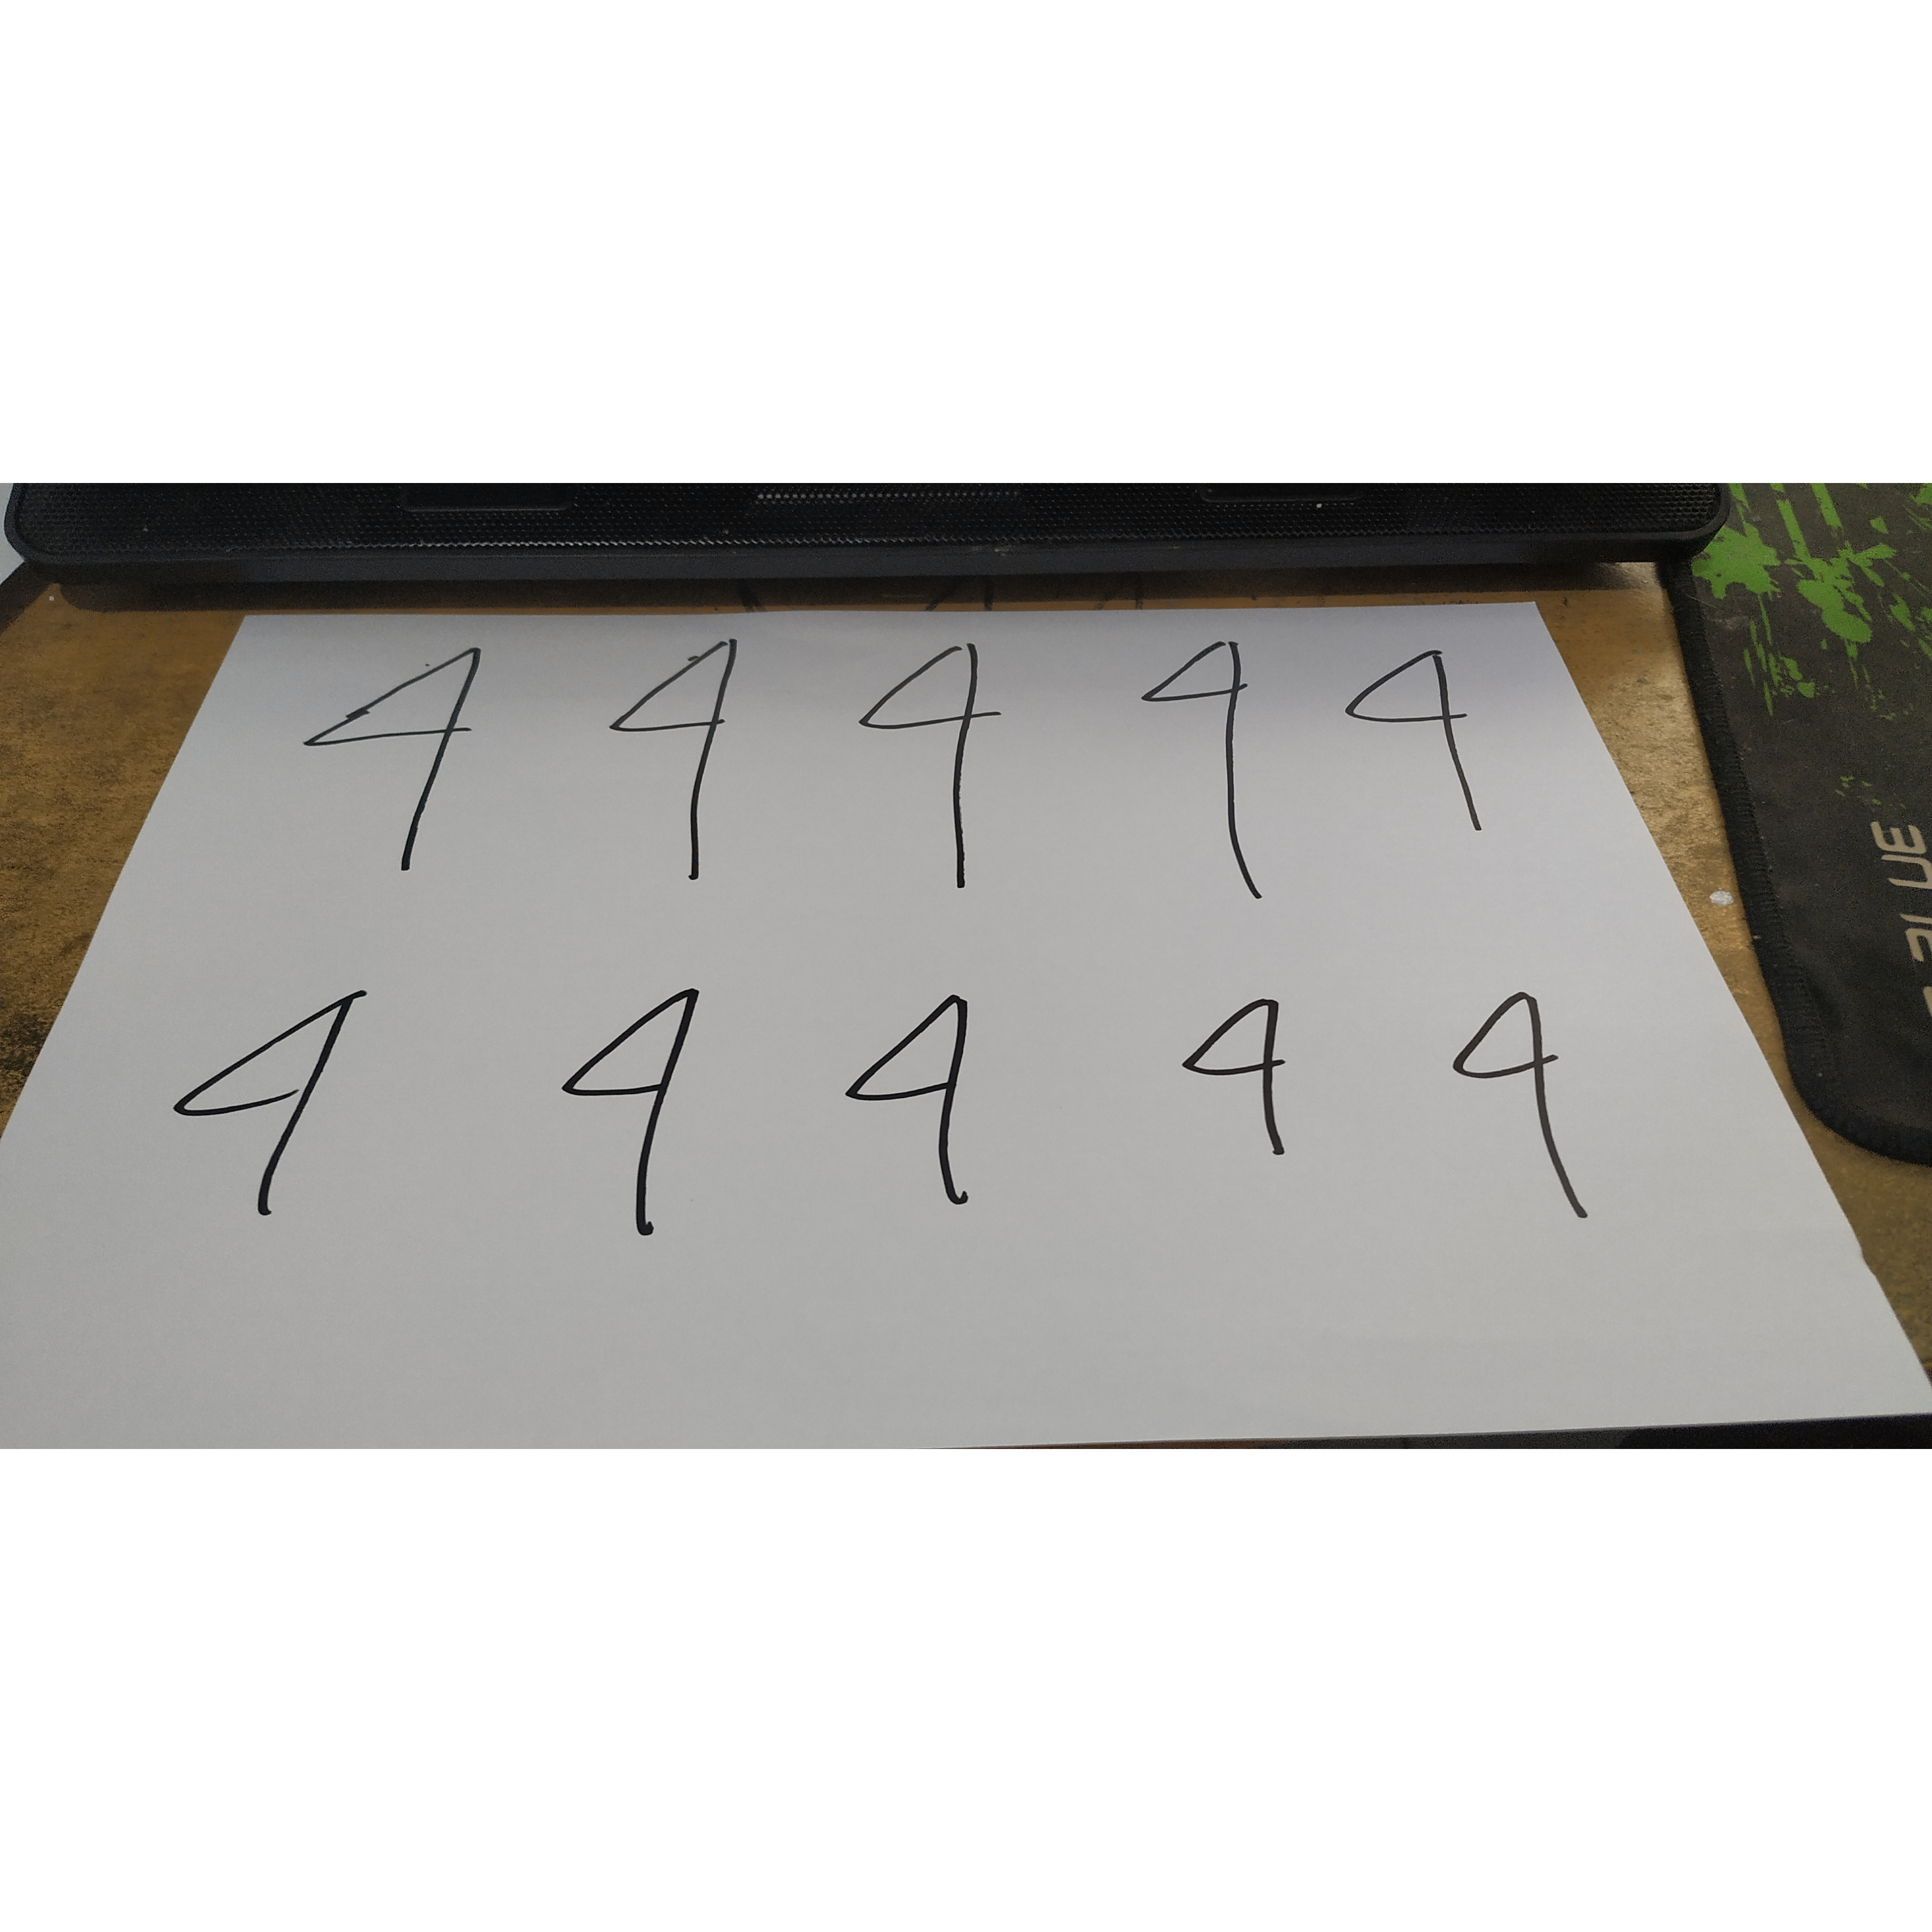num4: (1429, 955, 1633, 1245), (171, 966, 383, 1237), (284, 628, 498, 882), (547, 968, 721, 1254), (838, 626, 1015, 905), (1120, 619, 1290, 909), (826, 974, 1013, 1228), (587, 624, 761, 890), (1335, 632, 1519, 840), (1160, 989, 1318, 1178)
